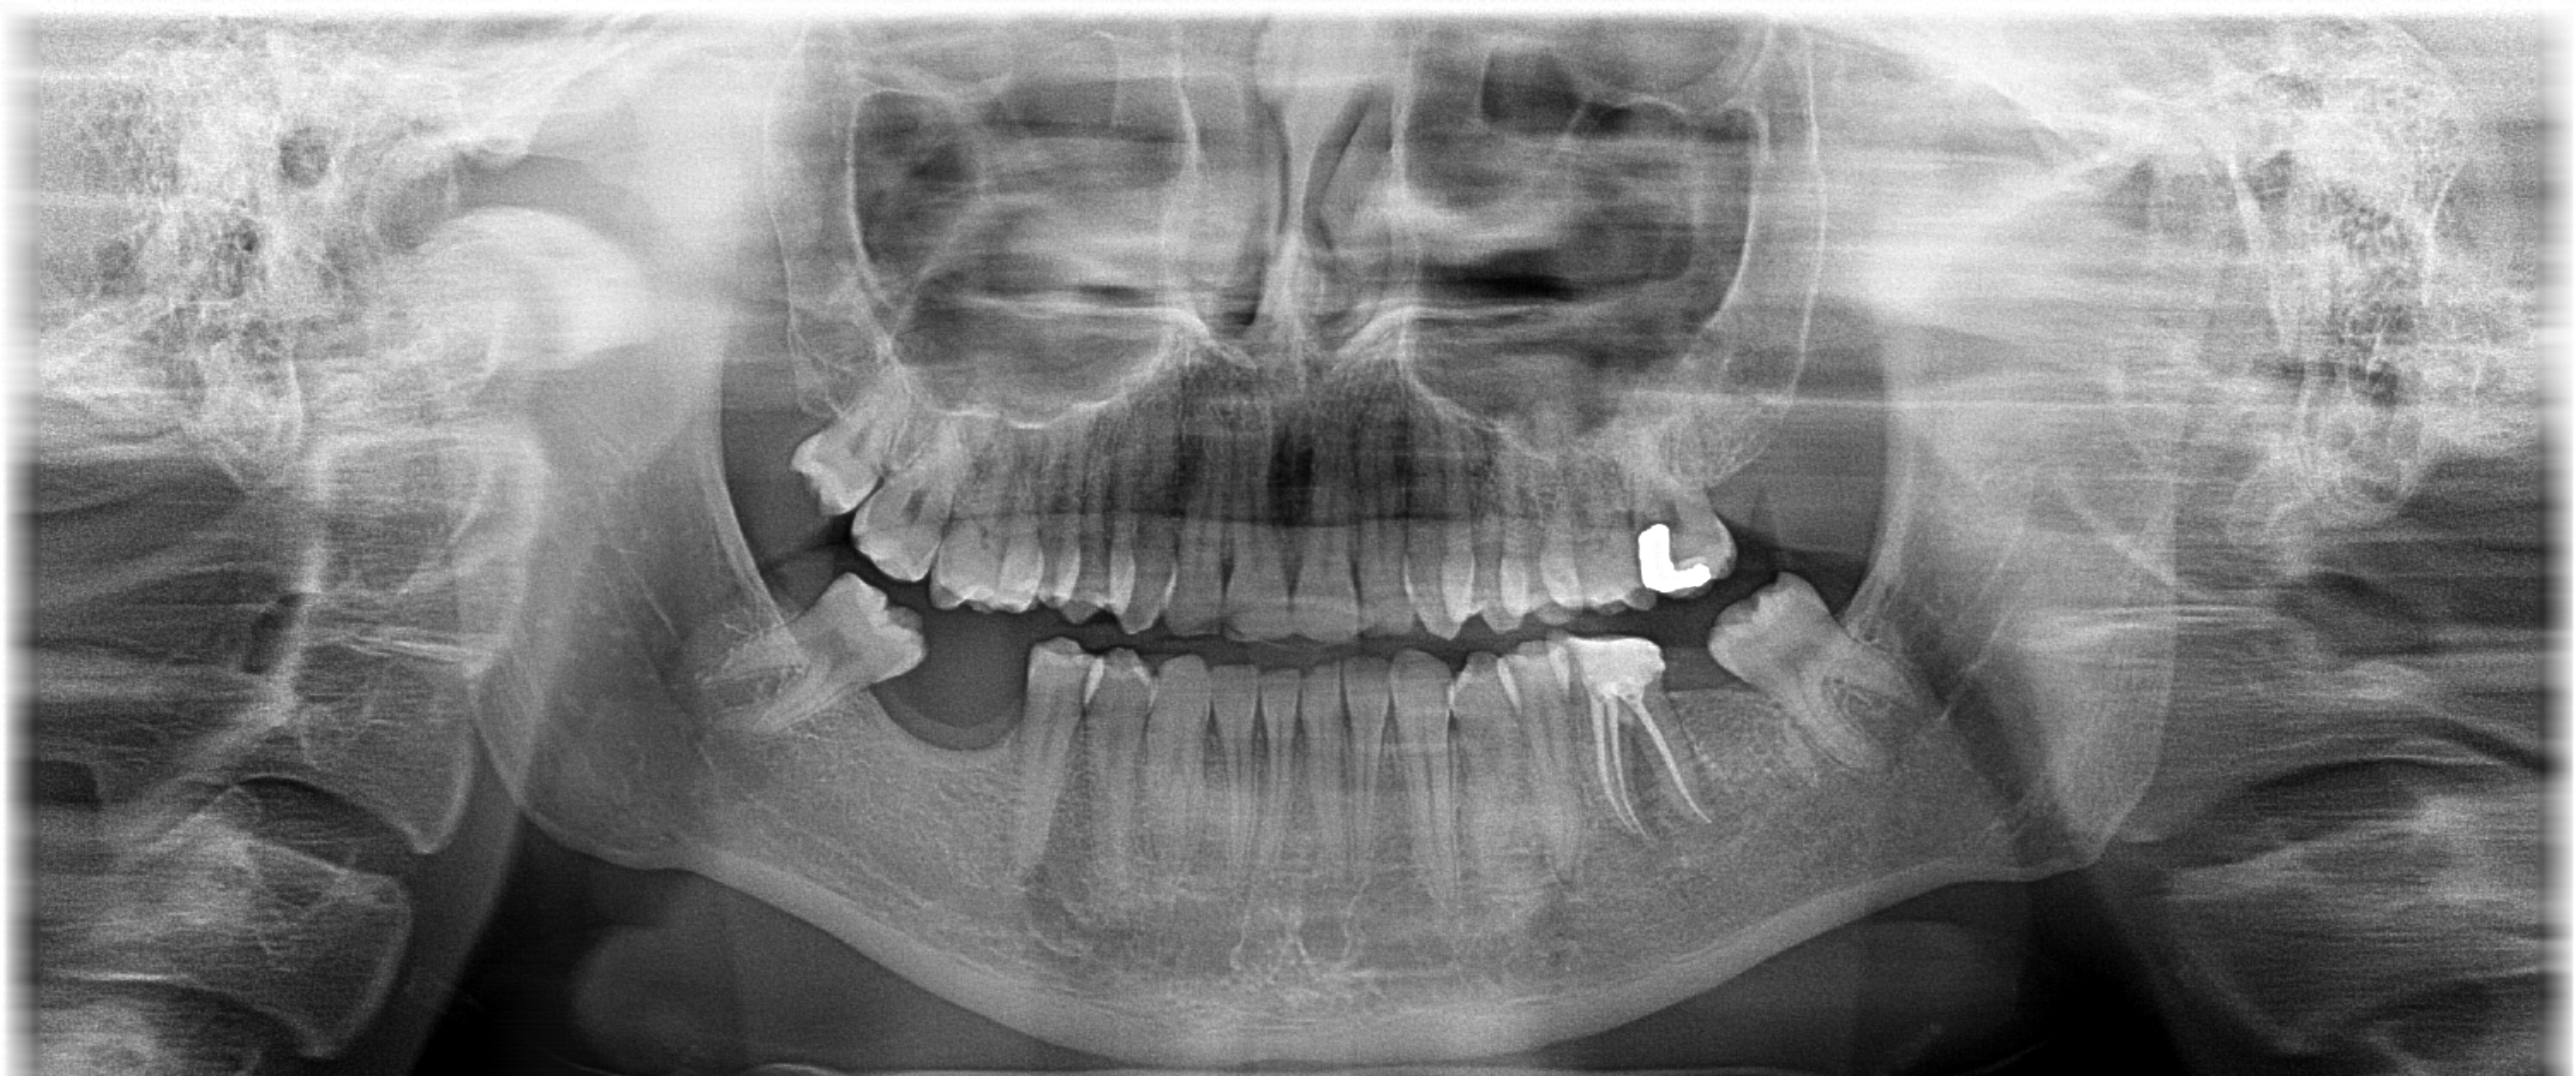apinamiento: (1372, 513, 1643, 642), (984, 519, 1189, 634)
cordal: (698, 550, 946, 751), (775, 381, 927, 536)
tratamiento_conducto: (1539, 618, 1727, 862)
zona_dentula: (867, 590, 1060, 835), (1648, 606, 1830, 826)
